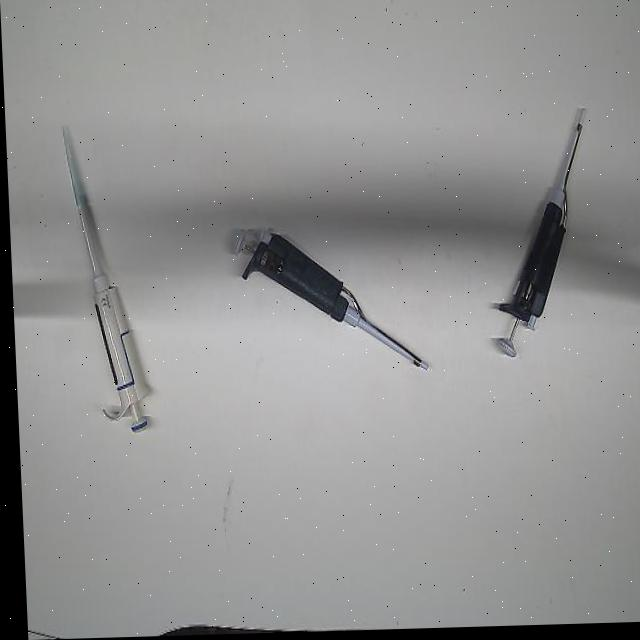Single Channel Pipettor: (54, 119, 159, 445), (229, 217, 428, 378), (484, 107, 599, 368)
